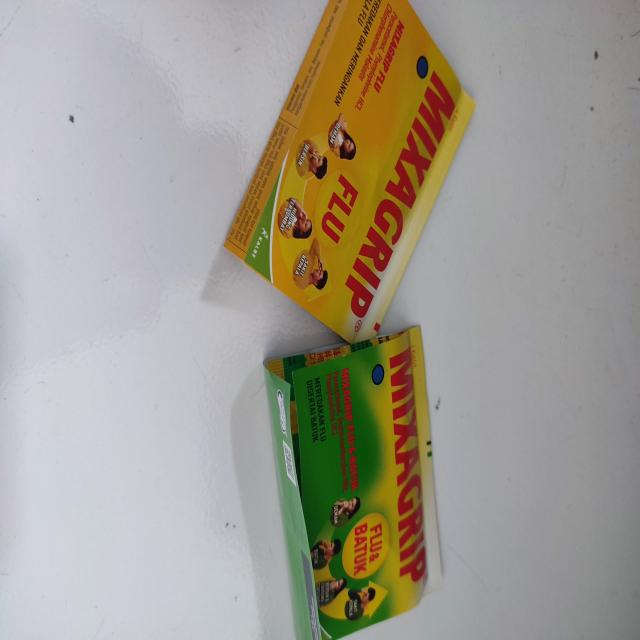B3: (221, 0, 479, 345), (263, 322, 446, 639)
